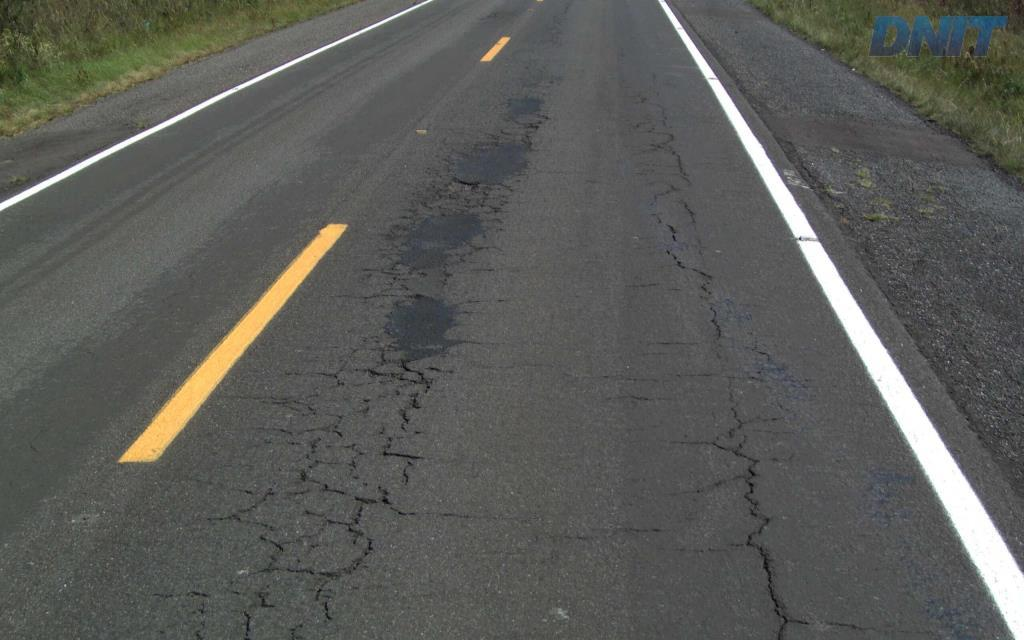crack: (679, 434, 810, 639), (362, 344, 455, 393), (326, 495, 378, 544)
